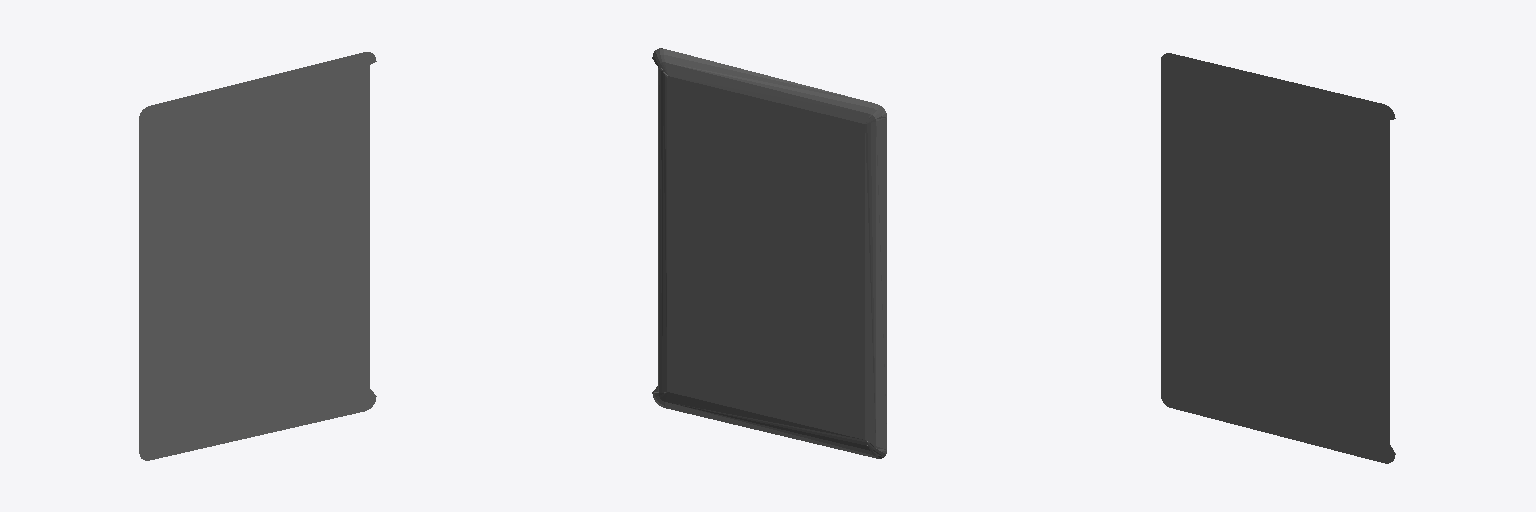
The model's file is body.obj.
The picture shows the model from 3 angles: view 1: azimuth 30°, elevation 25°; view 2: azimuth 150°, elevation 25°; view 3: azimuth 330°, elevation 25°; orthographic projection.
Visible parts, largest first — view 1: Solid_40; view 2: Solid_40; view 3: Solid_40.
Boxes of the visible parts, box(x1,y1,x2,y2) form: Solid_40: box(139, 52, 376, 460); Solid_40: box(652, 48, 886, 458); Solid_40: box(1161, 53, 1395, 463).
Bounding box in the file's own units: 15.97 × 23.2 × 0.5792.